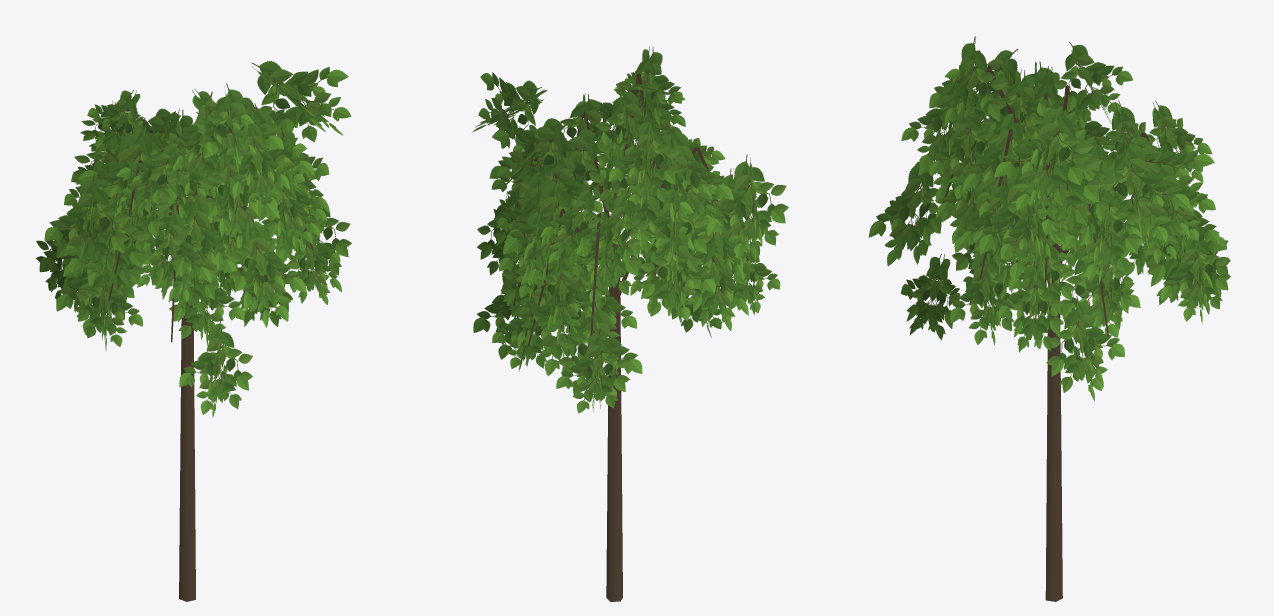
File: Tall Shrub 08.glb
3 renders of one model, left to right at view 1: azimuth 30°, elevation 25°; view 2: azimuth 150°, elevation 25°; view 3: azimuth 270°, elevation 25°, orthographic. The views are drawn at different scales.
Visible parts, largest first — view 1: Tall Shrub 08; view 2: Tall Shrub 08; view 3: Tall Shrub 08.
Boxes of the visible parts, bbox=[...] form: Tall Shrub 08: bbox=[36, 61, 351, 601]; Tall Shrub 08: bbox=[472, 46, 788, 601]; Tall Shrub 08: bbox=[868, 36, 1230, 601].
Bounding box in the file's own units: 2.03 × 3.08 × 2.
1 material, 1 textured.
